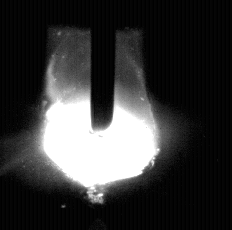arame: (92, 0, 115, 137)
poca: (43, 0, 156, 230)
